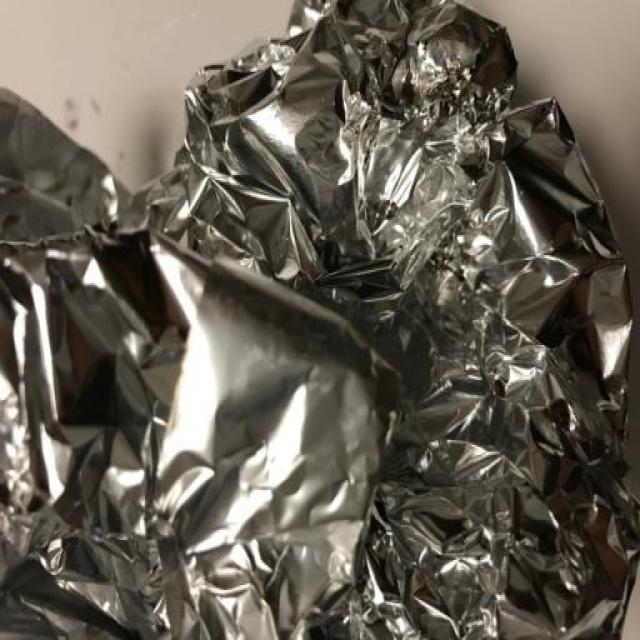others: (1, 1, 640, 640)
